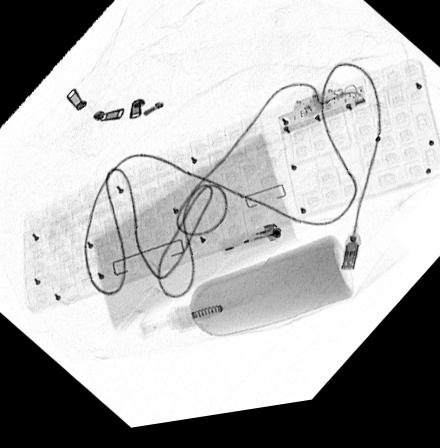Lighter: (218, 231, 281, 263)
